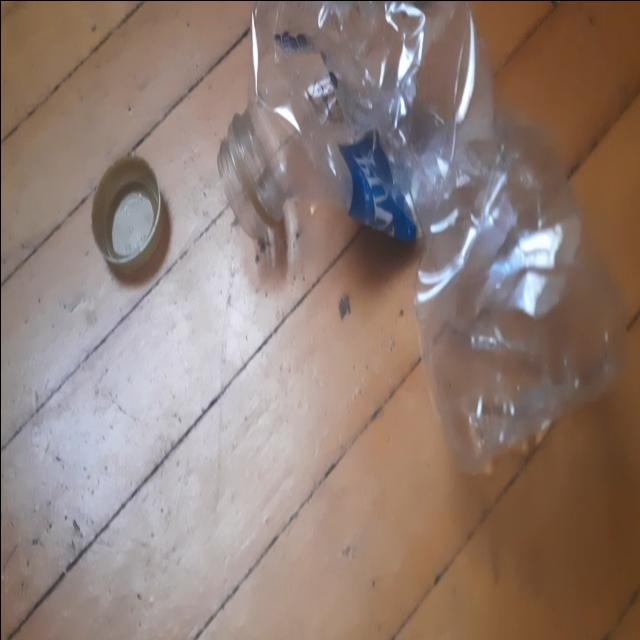Plastic: (228, 2, 624, 478)
